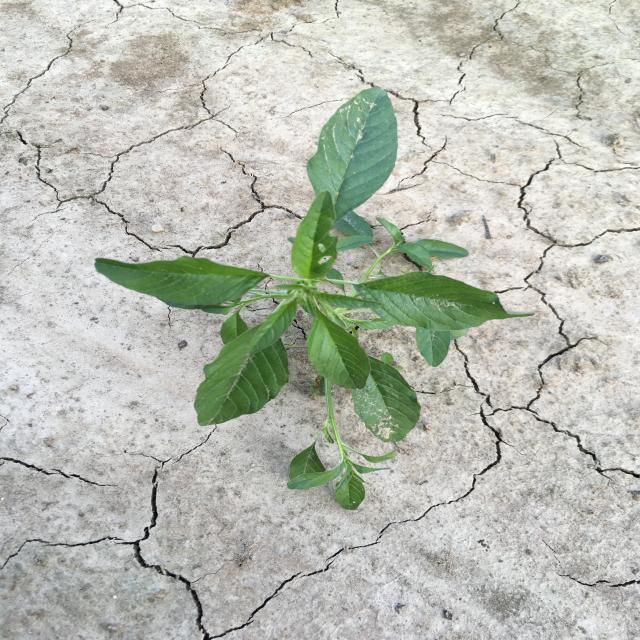Waterhemp: (91, 85, 538, 512)
